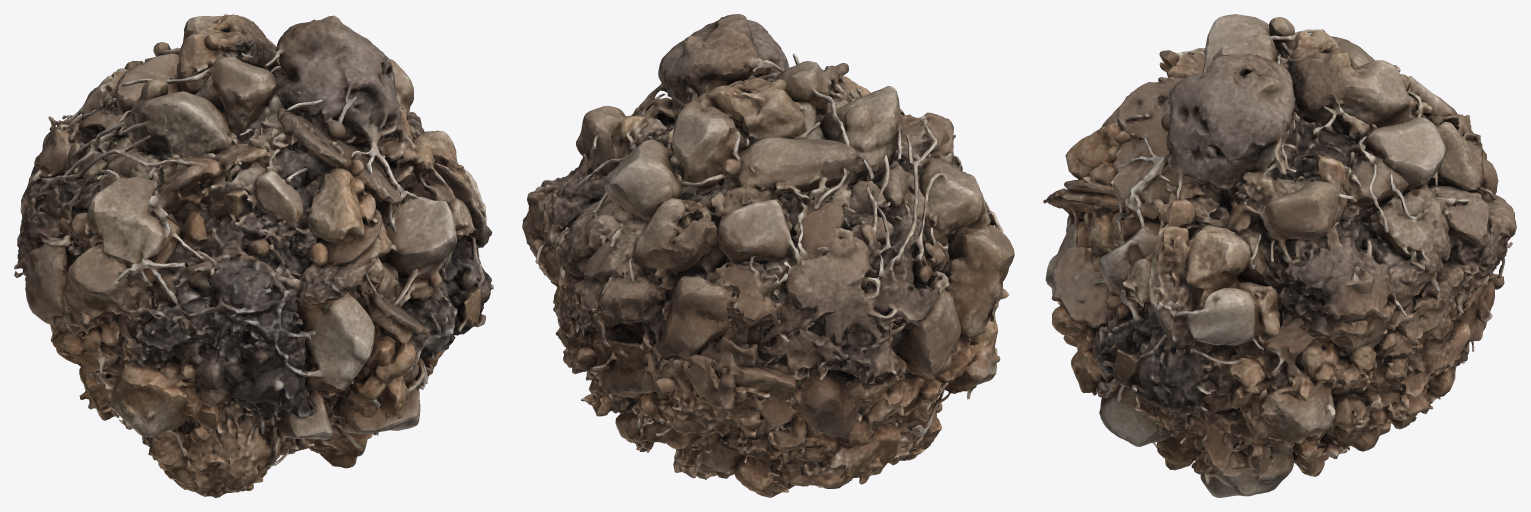
File: task-4891343.glb
3 renders of one model, left to right at view 1: azimuth 30°, elevation 25°; view 2: azimuth 150°, elevation 25°; view 3: azimuth 270°, elevation 25°, orthographic.
Visible parts, largest first — view 1: world; view 2: world; view 3: world.
Boxes of the visible parts, x1,y1,x2,y2 form: world: [14, 14, 493, 497]; world: [522, 14, 1014, 497]; world: [1043, 14, 1516, 497].
Size of the model in its own units: 0.3 by 0.3004 by 0.2993.
1 material, 1 textured.
